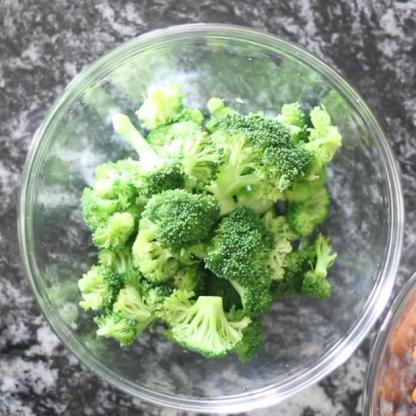broccoli: (76, 83, 346, 362)
